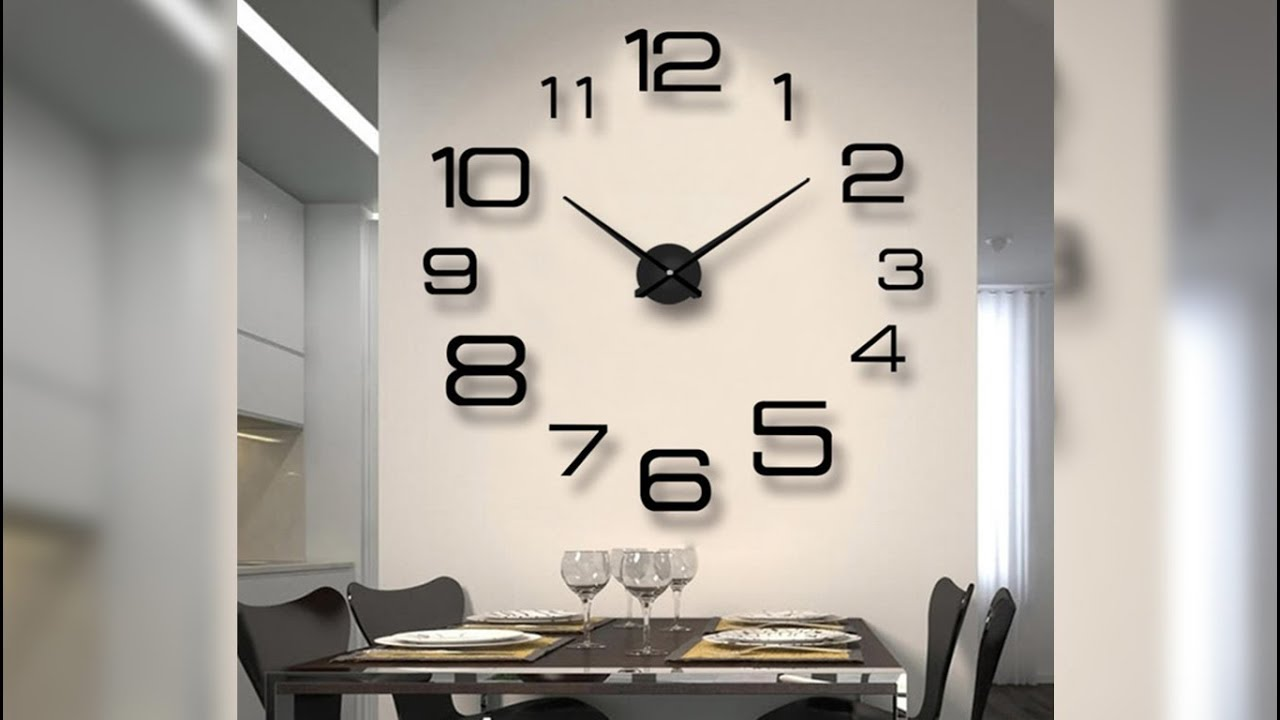jam dinding: (407, 20, 941, 548)
